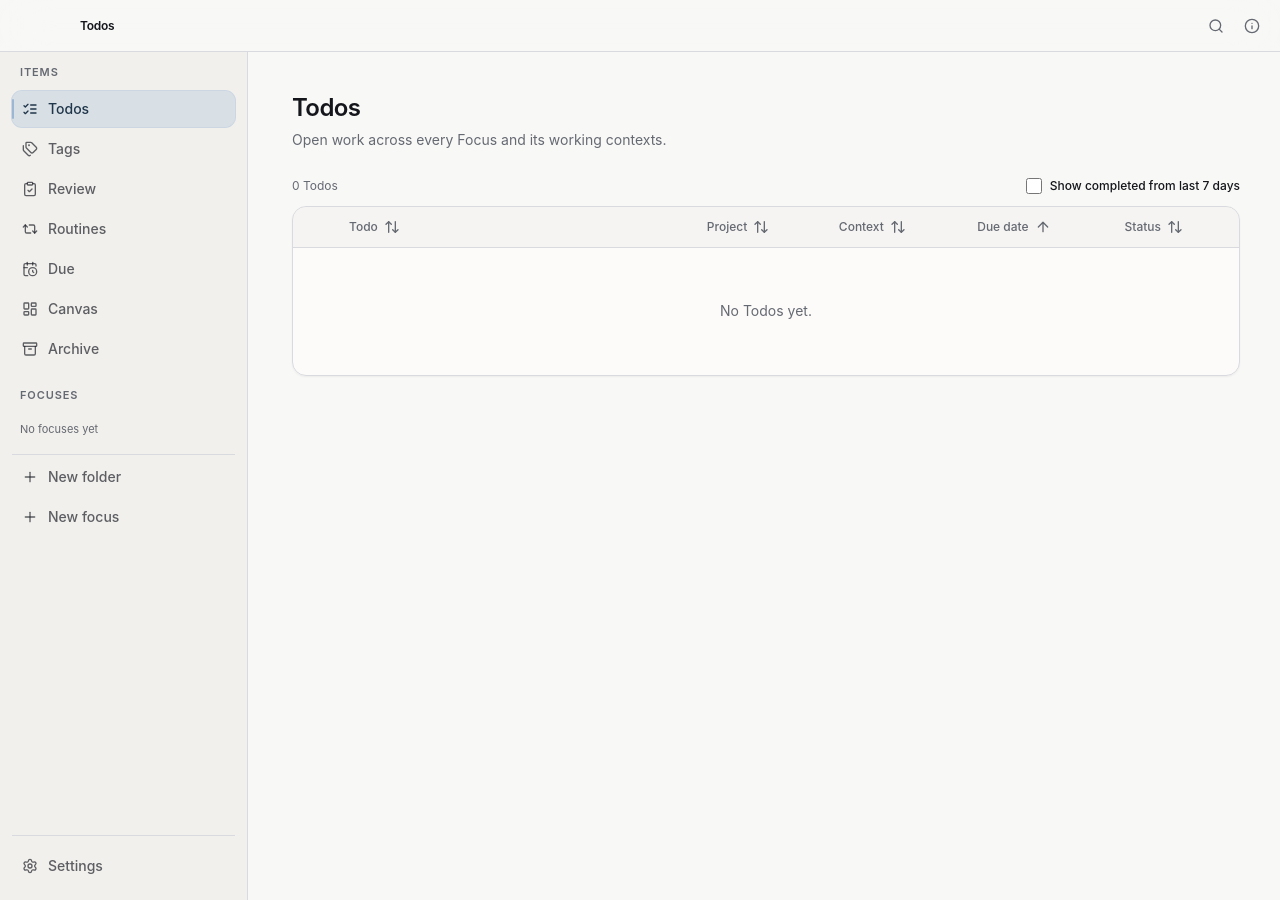
Scenario: App › opens the addressable Canvas workspace from aggregate navigation
Step 1. Click the button "Canvas" → coordinates (124, 308), box [12,290,235,326]
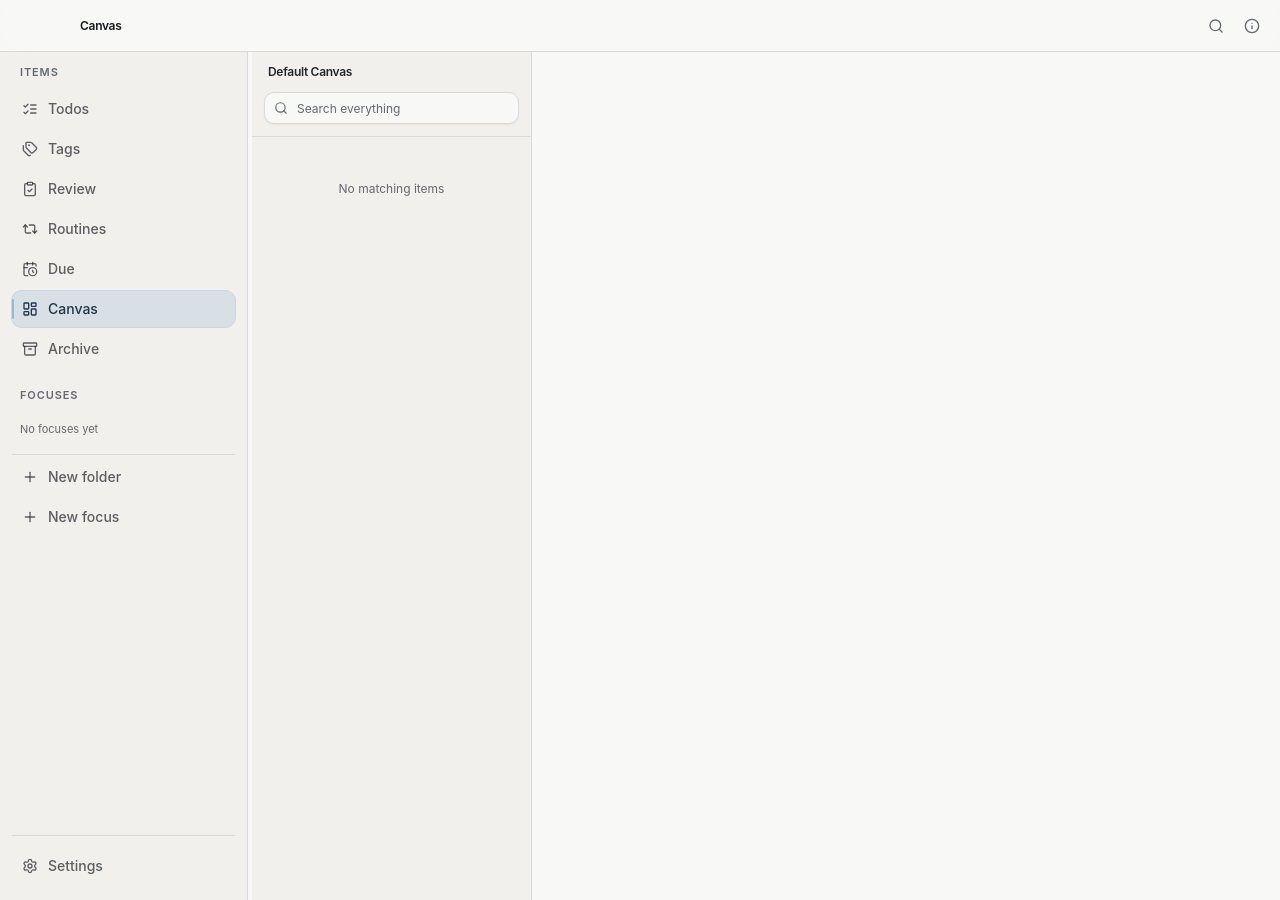
Check: the element named "Canvas item library" is shown, box [252,52,532,899]
Check: the element named "Canvas workspace" is shown, box [536,52,1279,899]
Check: the search field named "Search Canvas items" is shown, box [264,92,519,124]
